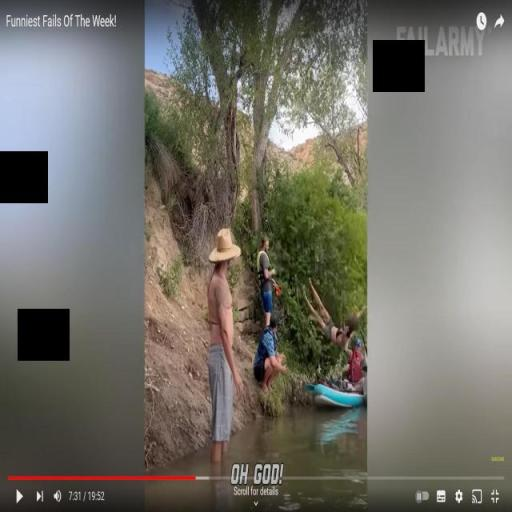Fall: (301, 273, 369, 354), (325, 335, 369, 409)
